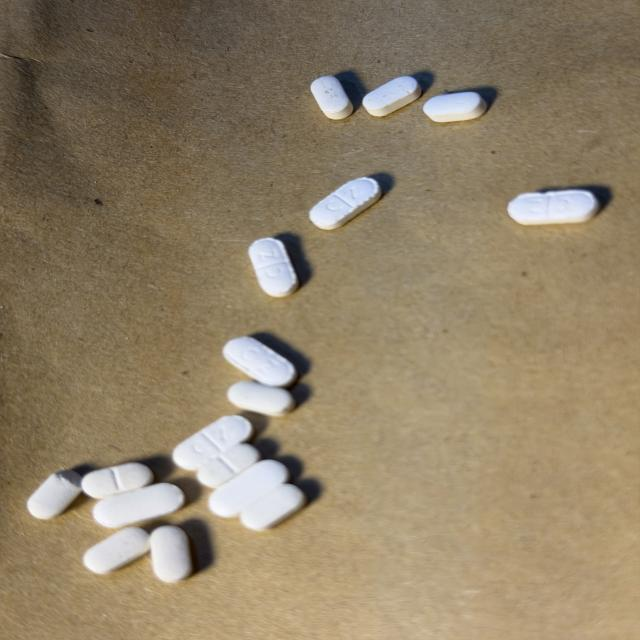pill: (209, 460, 288, 517), (173, 416, 252, 470), (93, 483, 184, 528), (223, 337, 297, 386), (310, 178, 381, 229), (508, 190, 599, 225), (248, 238, 300, 298), (240, 484, 306, 530), (83, 528, 149, 574), (197, 444, 260, 488), (27, 470, 81, 519), (82, 463, 153, 498), (151, 526, 192, 582), (228, 382, 295, 416), (363, 77, 421, 116), (423, 92, 486, 122), (311, 76, 353, 119)
